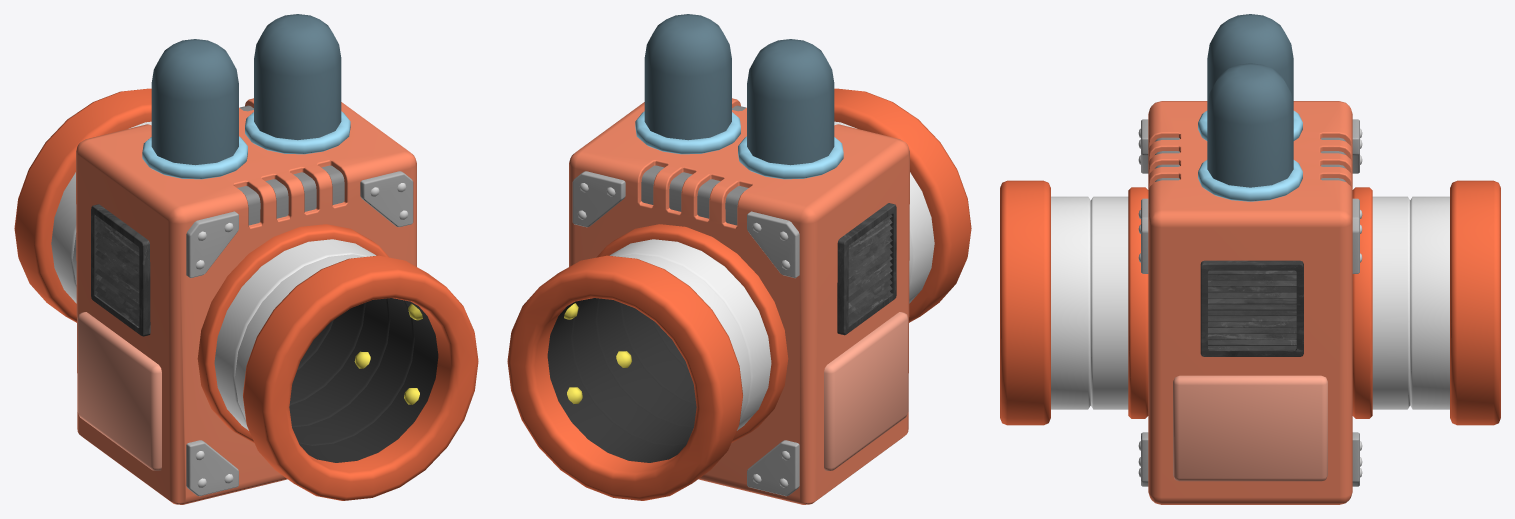
Rendered from tunnel_001.fbx.
The picture shows the model from 3 angles, left to right: view 1: azimuth 30°, elevation 25°; view 2: azimuth 150°, elevation 25°; view 3: azimuth 270°, elevation 25°; orthographic projection.
Visible parts, largest first — view 1: tunnel_001; view 2: tunnel_001; view 3: tunnel_001.
Boxes of the visible parts, left/top/right/bottom form: tunnel_001: left=14, top=14, right=478, bottom=504; tunnel_001: left=507, top=14, right=971, bottom=504; tunnel_001: left=1000, top=14, right=1500, bottom=504.
Bounding box in the file's own units: 1095 × 1826 × 1623.
